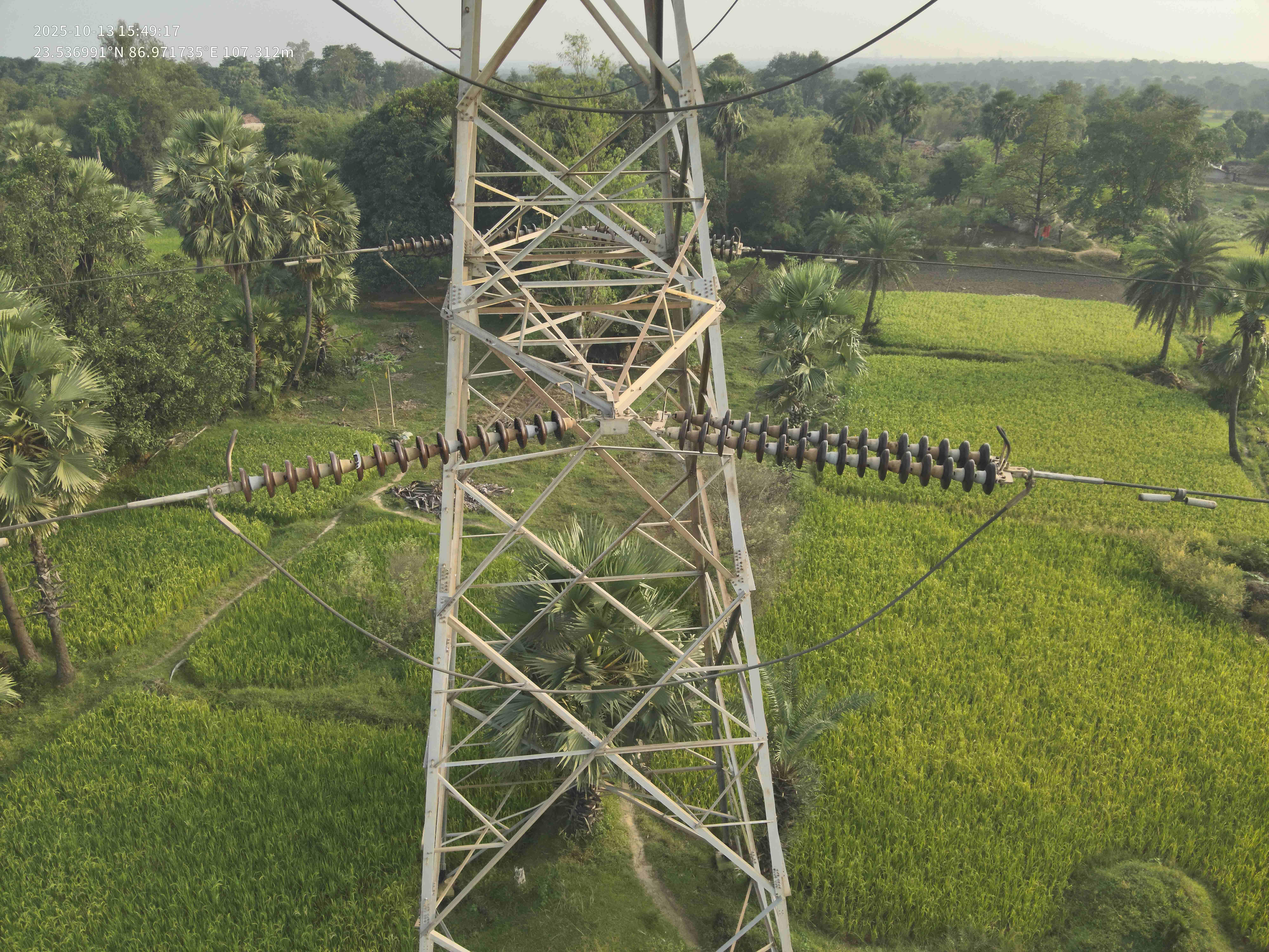broken_insulator: (346, 447, 374, 484), (683, 231, 690, 244)
